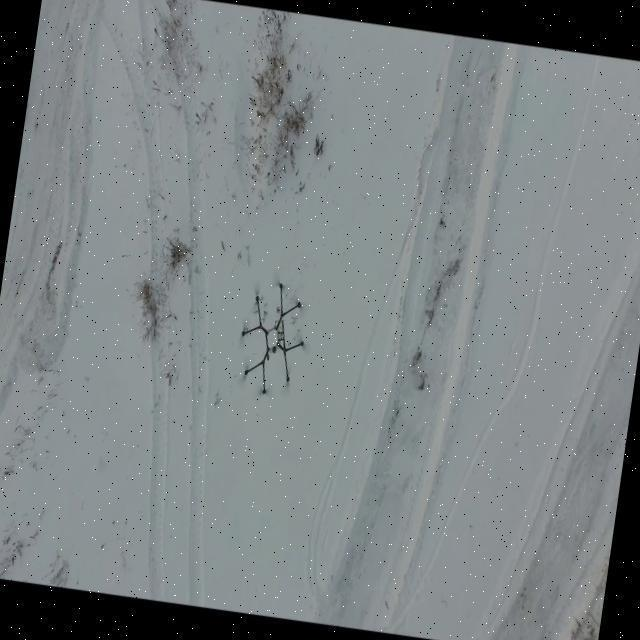Drons: (223, 270, 326, 410)
